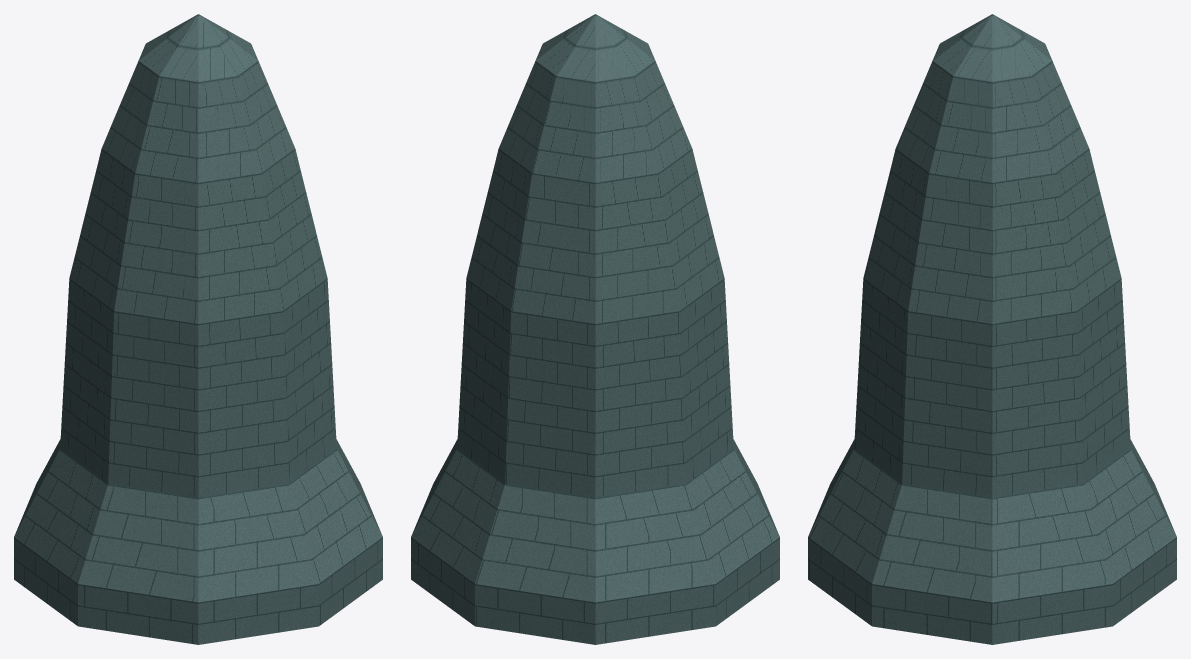
File: island.obj
The picture shows the model from 3 angles, left to right: view 1: azimuth 30°, elevation 25°; view 2: azimuth 150°, elevation 25°; view 3: azimuth 270°, elevation 25°; orthographic projection.
Size of the model in its own units: 7.76 by 13 by 7.88.
Materials: 1 (1 with a texture image).
